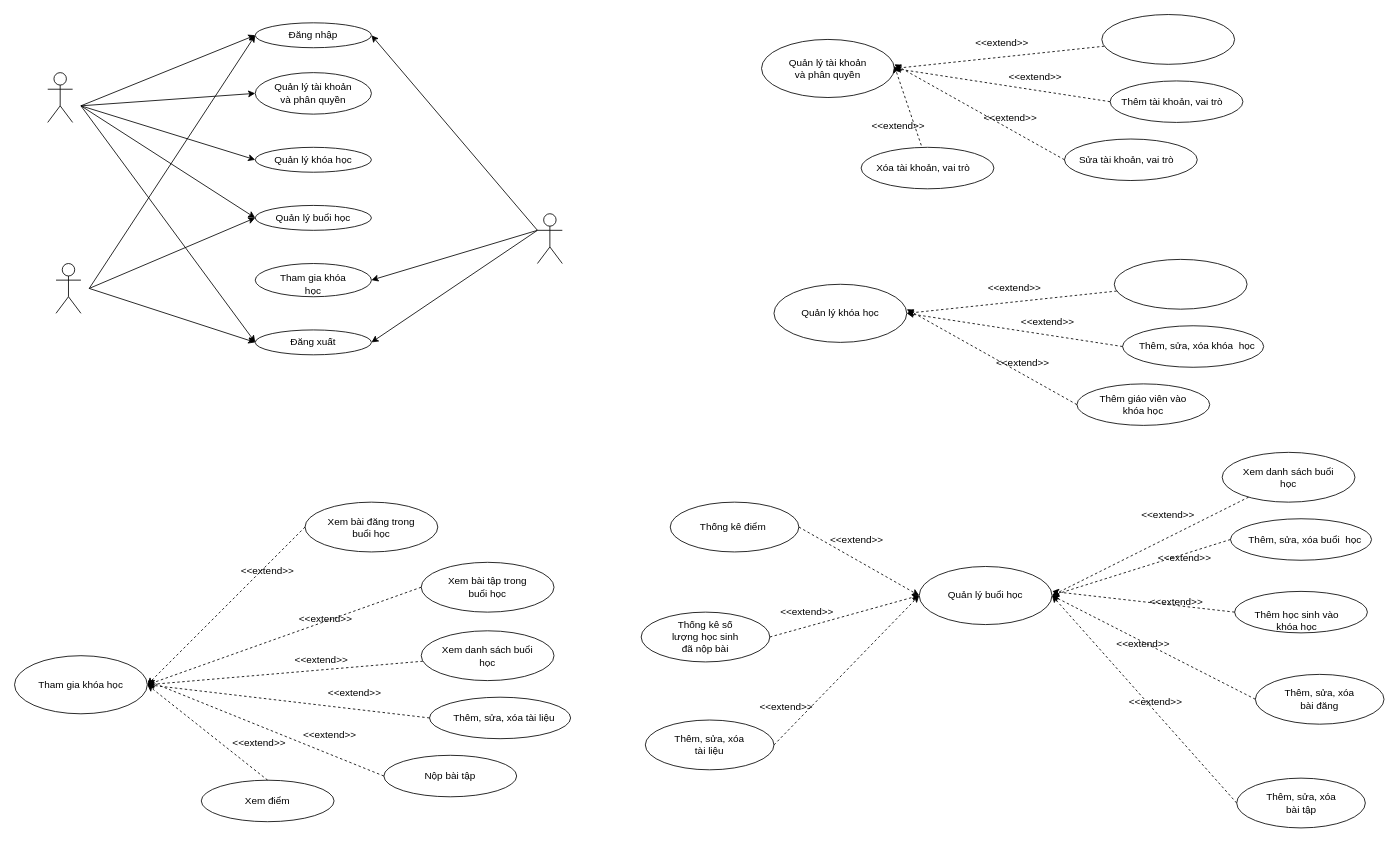
Image size: 1399x842. Some labels were removed from this diagram. Here are the shapes that lost their labels. From the top down, the centre of each, then its label:
pixel 1168 39: Xem danh sách tài khoản, vai trò
pixel 60 97: Admin
pixel 549 238: Student
pixel 68 288: Instructor
pixel 1180 284: Xem danh sách khóa học
